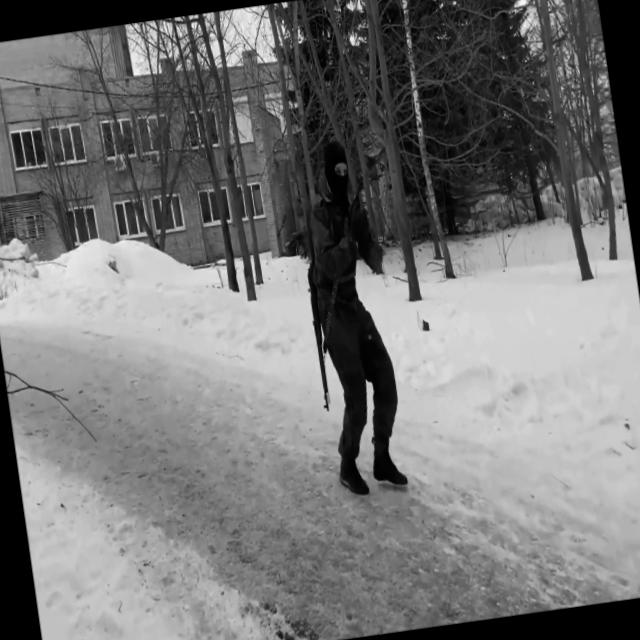gun: (293, 194, 339, 413), (343, 181, 370, 226)
person with a gun: (286, 134, 416, 502)
